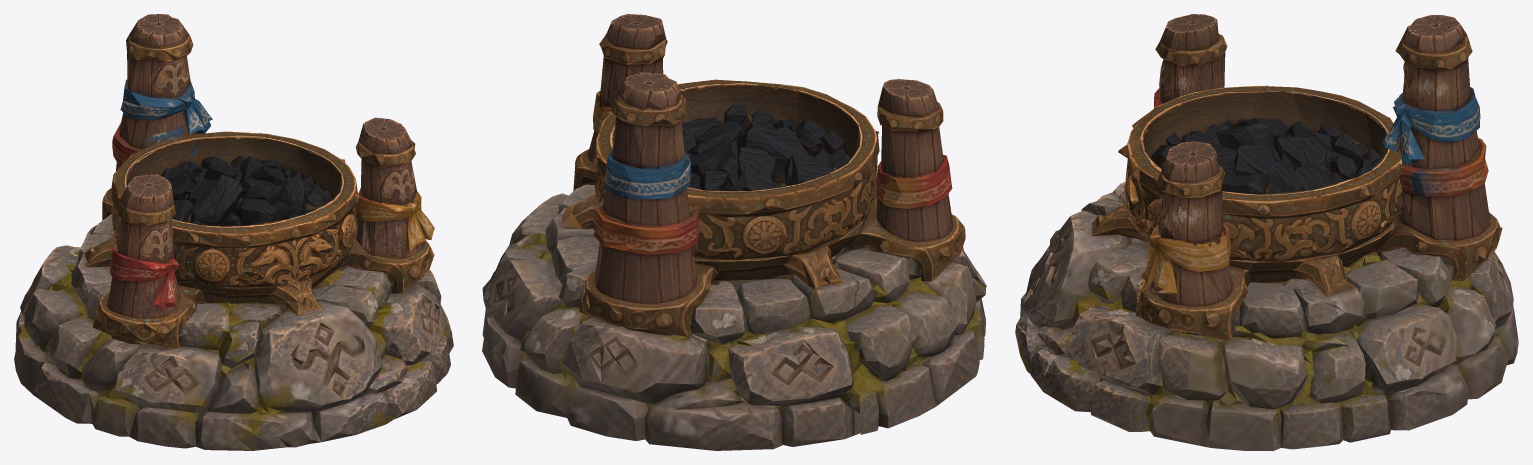
The model's file is n_ocak.glb.
3 views of the same model, side by side, from view 1: azimuth 30°, elevation 25°; view 2: azimuth 150°, elevation 25°; view 3: azimuth 270°, elevation 25° (orthographic). The views are drawn at different scales.
Visible parts, largest first — view 1: output_unwrapped; view 2: output_unwrapped; view 3: output_unwrapped.
Part boxes in pixels (x1=…): output_unwrapped: x1=14, y1=14, x2=453, y2=450; output_unwrapped: x1=482, y1=14, x2=986, y2=450; output_unwrapped: x1=1015, y1=14, x2=1518, y2=450.
Size of the model in its own units: 1.89 by 1.34 by 1.9.
1 material, 1 textured.
